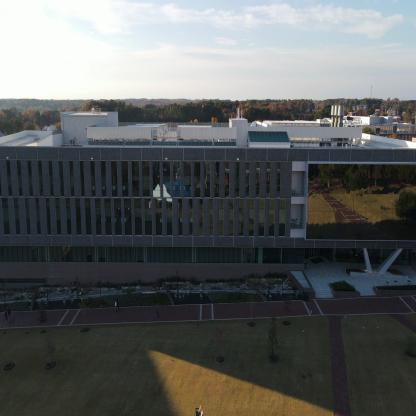Fitts- Woolard: (4, 87, 415, 324)
